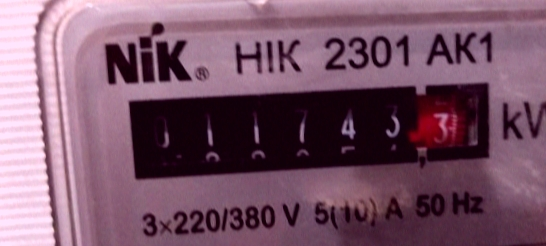0: (148, 111, 172, 152), (197, 107, 218, 149)
1: (244, 105, 263, 147)
3: (379, 98, 402, 142), (428, 107, 451, 147)
4: (334, 101, 357, 142)
7: (287, 101, 313, 147)
screen: (107, 61, 501, 195)
